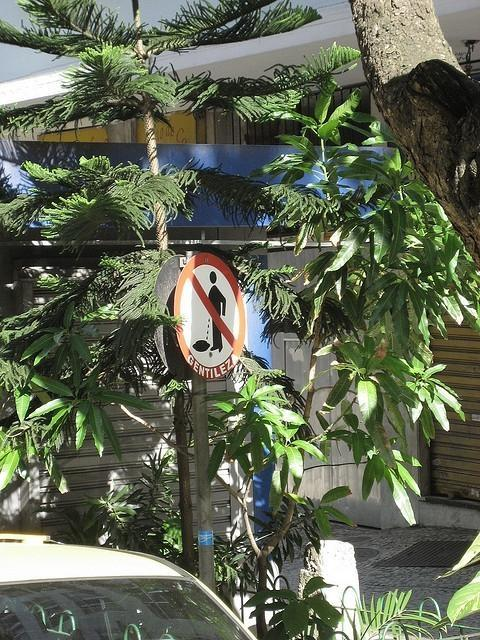car: (0, 542, 261, 640)
